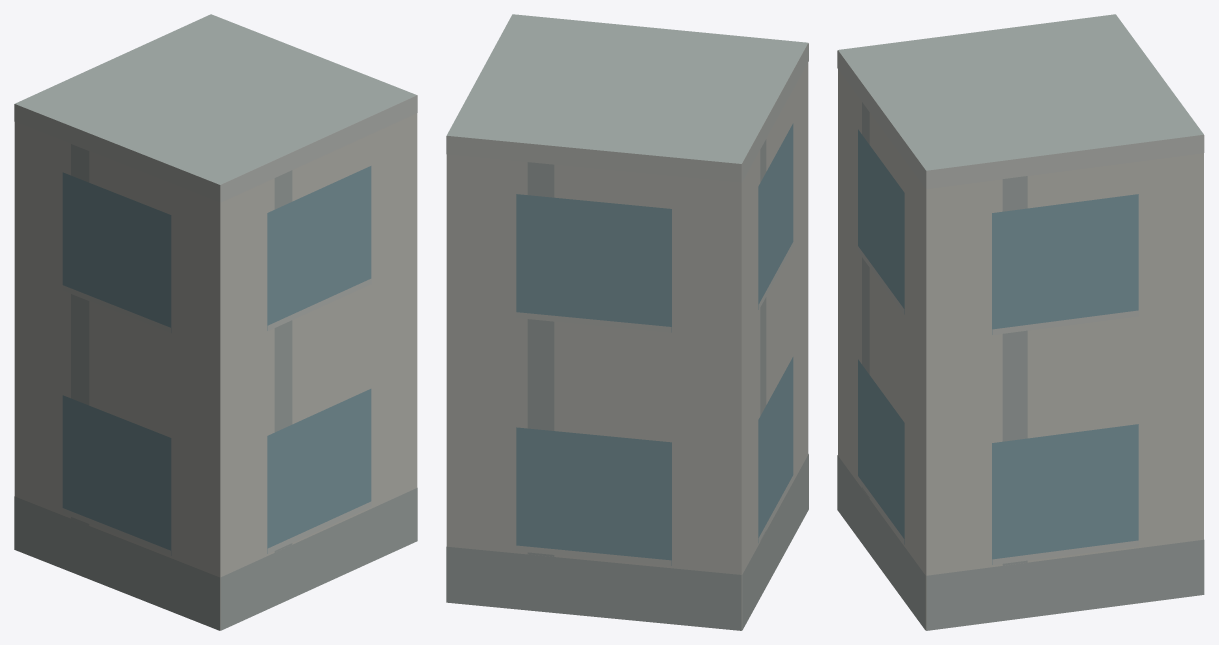
The model's file is survey-upis-32635537.glb.
3 renders of one model, left to right at view 1: azimuth 30°, elevation 25°; view 2: azimuth 150°, elevation 25°; view 3: azimuth 270°, elevation 25°, orthographic. The views are drawn at different scales.
Parts seen in each view (by area): view 1: survey-upis-32635537.tmp; view 2: survey-upis-32635537.tmp; view 3: survey-upis-32635537.tmp.
Boxes of the visible parts, x1,y1,x2,y2 form: survey-upis-32635537.tmp: (14,14,417,630); survey-upis-32635537.tmp: (446,14,808,630); survey-upis-32635537.tmp: (837,14,1204,630).
Size of the model in its own units: 4.46 by 6.1 by 4.41.
